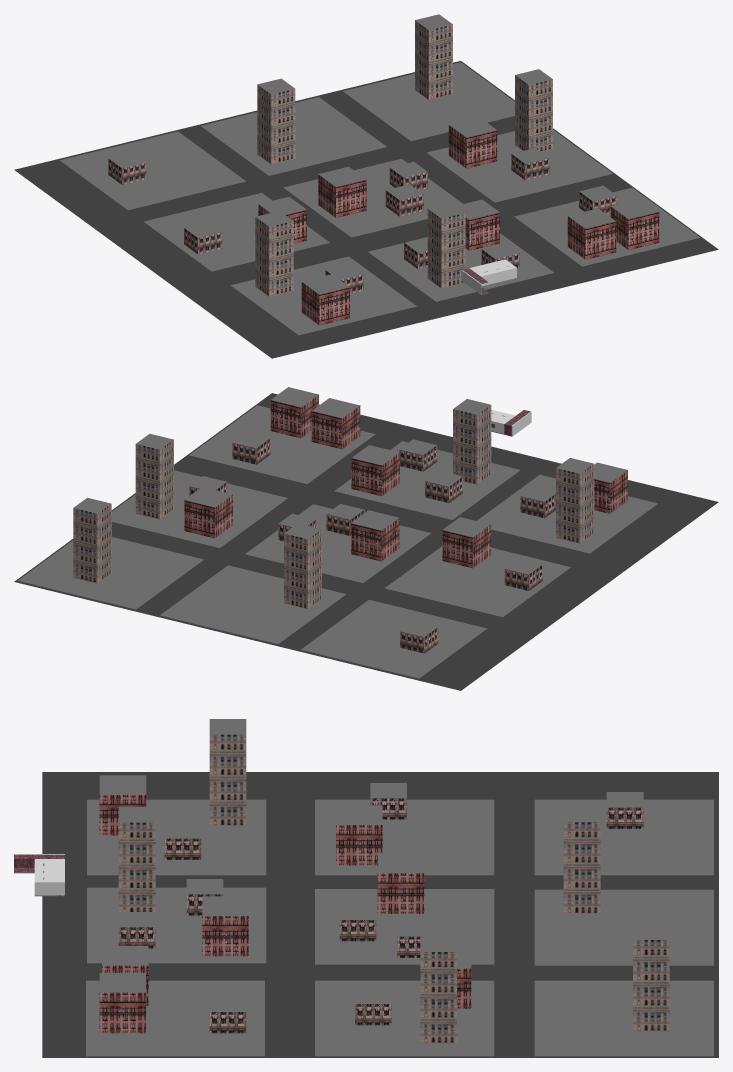
Rendered from apartment.fbx.
3 views of the same model, one above another, from view 1: azimuth 30°, elevation 25°; view 2: azimuth 150°, elevation 25°; view 3: azimuth 270°, elevation 25° (orthographic). The views are drawn at different scales.
Visible parts, largest first — view 1: CityBlocks, Street, Cube.020, Cube.021, Cube.019, Cube.022, Cube.023, Cube.007, Cube.009, Cube.005, Cube.003, Cube.008 (+12 smaller); view 2: CityBlocks, Street, Cube.023, Cube.020, Cube.022, Cube.019, Cube.021, Cube.007, Cube.003, Cube.009, Cube.004, Cube.006 (+10 smaller); view 3: CityBlocks, Street, Cube.021, Cube.020, Cube.022, Cube.023, Cube.019, Cube.003, Cube.004, Cube.008, Cube.006, Cube.005 (+13 smaller).
Part boxes in pixels (x1,y1,x2,y2): CityBlocks: [60, 62, 700, 335]; Street: [14, 61, 718, 358]; Cube.020: [255, 211, 293, 296]; Cube.021: [257, 78, 295, 164]; Cube.019: [427, 202, 465, 288]; Cube.022: [415, 14, 452, 99]; Cube.023: [515, 69, 552, 151]; Cube.007: [567, 208, 616, 259]; Cube.009: [448, 117, 497, 168]; Cube.005: [301, 274, 349, 325]; Cube.003: [318, 166, 366, 217]; Cube.008: [610, 199, 659, 250]; CityBlocks: [18, 405, 657, 678]; Street: [14, 393, 718, 690]; Cube.023: [135, 433, 173, 519]; Cube.020: [556, 458, 594, 543]; Cube.022: [73, 497, 111, 583]; Cube.019: [453, 399, 491, 484]; Cube.021: [284, 523, 321, 608]; Cube.007: [311, 398, 360, 449]; Cube.003: [351, 510, 399, 561]; Cube.009: [184, 487, 232, 538]; Cube.004: [351, 445, 399, 496]; Cube.006: [442, 517, 490, 568]; CityBlocks: [86, 799, 713, 1056]; Street: [42, 772, 718, 1057]; Cube.021: [563, 806, 600, 913]; Cube.020: [209, 719, 246, 826]; Cube.022: [633, 924, 669, 1031]; Cube.023: [420, 936, 456, 1043]; Cube.019: [118, 807, 155, 911]; Cube.003: [377, 853, 424, 913]; Cube.004: [202, 896, 248, 956]; Cube.008: [99, 973, 145, 1033]; Cube.006: [336, 805, 382, 865]; Cube.005: [99, 775, 146, 835].
Bounding box in the file's own units: 26321 × 4003 × 27429.
